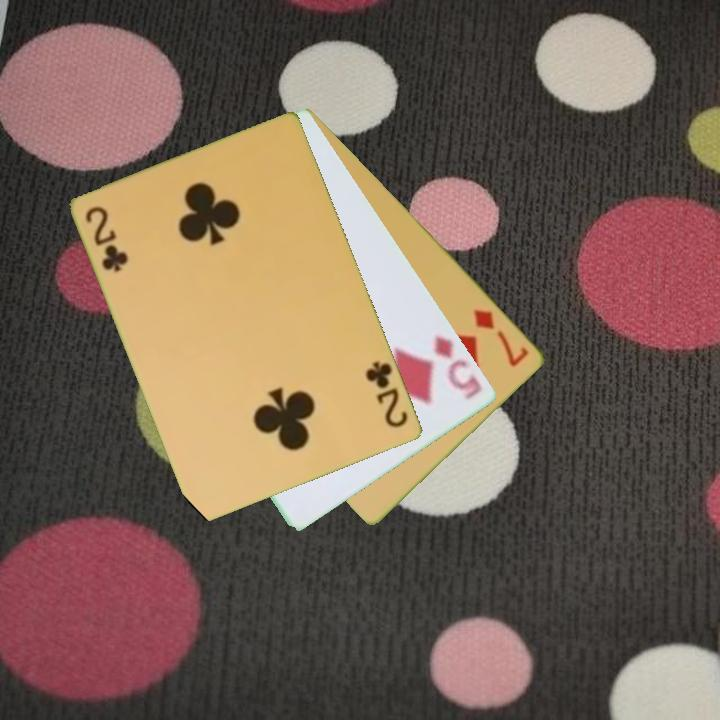2c: (362, 358, 412, 431), (82, 203, 131, 276)
5d: (430, 332, 486, 403)
7d: (471, 305, 532, 370)
